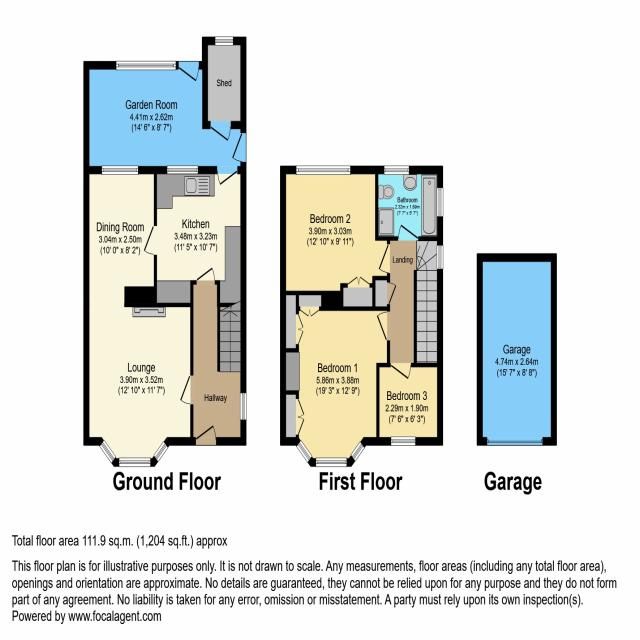DOOR: (178, 60, 200, 83), (195, 424, 217, 446), (376, 310, 391, 342), (232, 132, 247, 163), (143, 225, 158, 256), (179, 374, 194, 405), (216, 165, 238, 186), (390, 362, 412, 381), (196, 266, 216, 286), (398, 223, 419, 242), (378, 243, 390, 274)
ROOM: (83, 166, 194, 468), (83, 61, 247, 186), (280, 290, 390, 467), (124, 166, 247, 307), (280, 165, 391, 311), (376, 363, 443, 446)
WINDOW: (116, 60, 177, 71), (296, 165, 351, 175), (99, 439, 117, 465), (101, 164, 139, 176), (296, 439, 313, 464), (153, 440, 169, 463), (315, 457, 348, 468), (167, 164, 199, 175), (119, 457, 151, 468), (350, 441, 365, 463), (391, 435, 416, 447), (384, 165, 410, 176), (436, 187, 444, 217), (240, 392, 247, 421), (436, 245, 444, 270)
